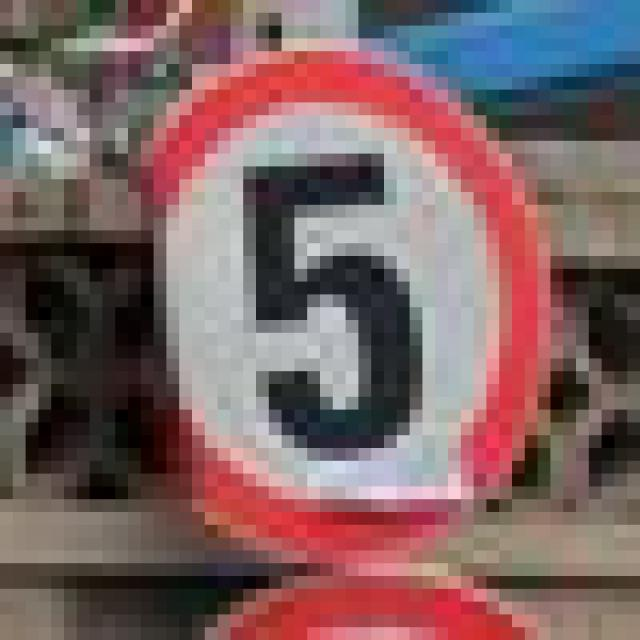speed_limit_20: (128, 38, 538, 550)
